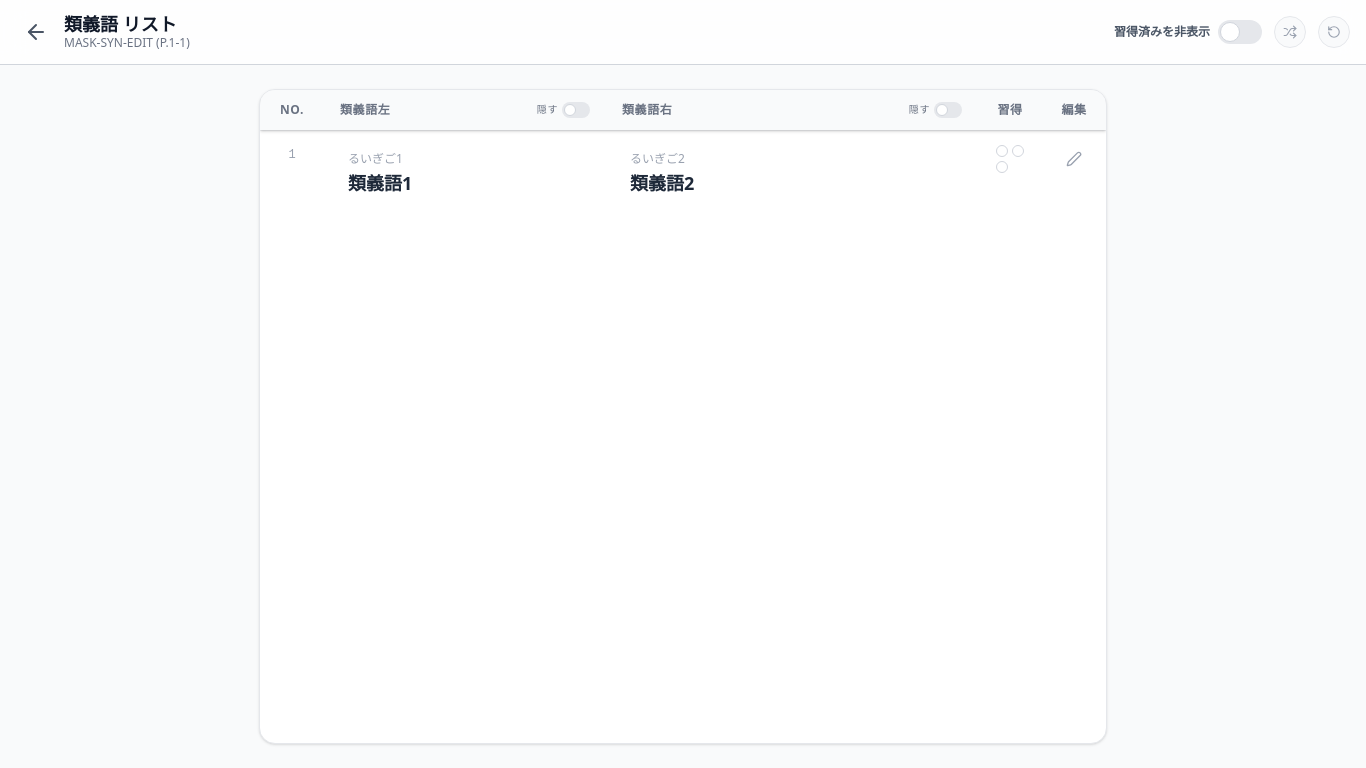
Test: WordList Masking Feature › 類義語の右パネル編集は右メンバーだけを更新する
The image size is (1366, 768).
Check: the text "類義語1" is shown, box [348,171,412,195]
Check: the text "類義語2" is shown, box [630,171,694,195]
Click the button with class "lucide-pen": (1074, 159) [1058,143,1090,175]
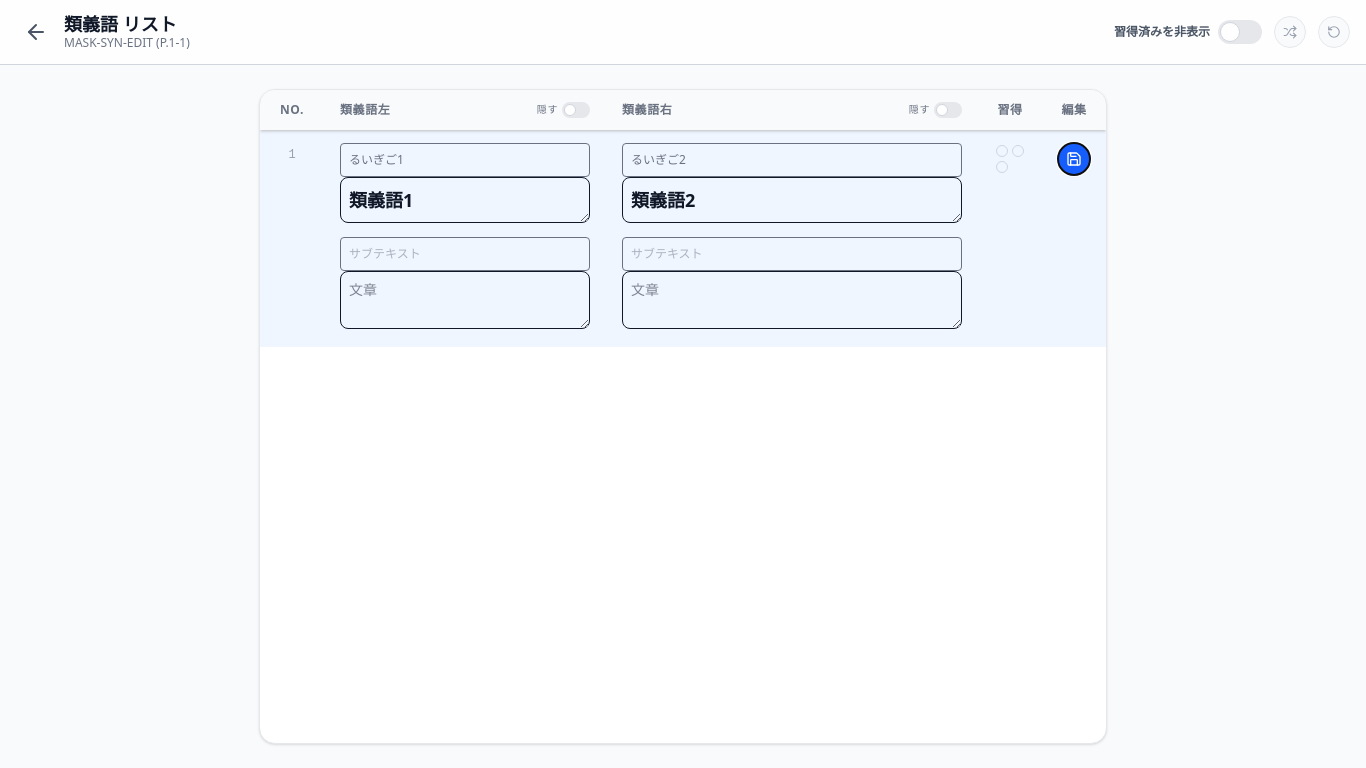
Replace the text in the 2nd text box showing "類義語2" with "右更新": (792, 200) [622,177,962,223]
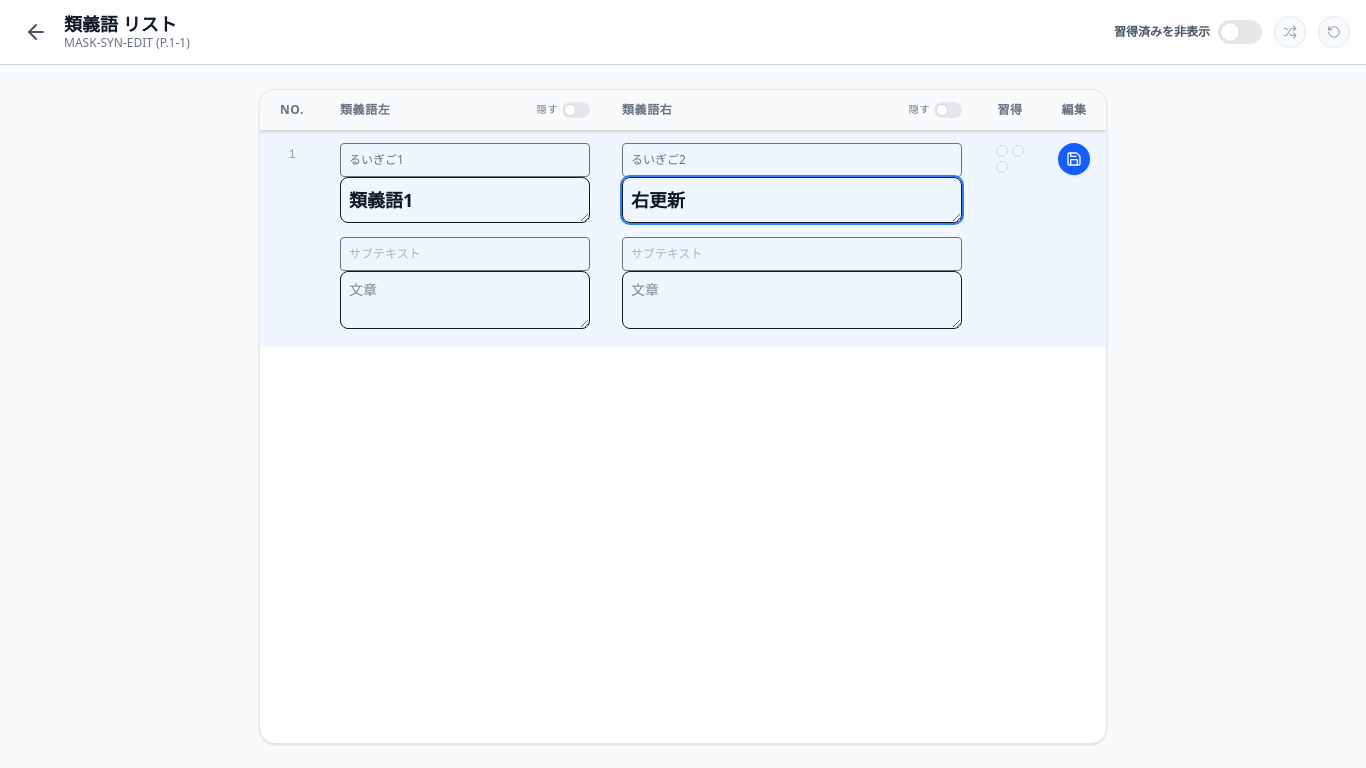
Click the button with class "lucide-pen": (1074, 159) [1058,143,1090,175]
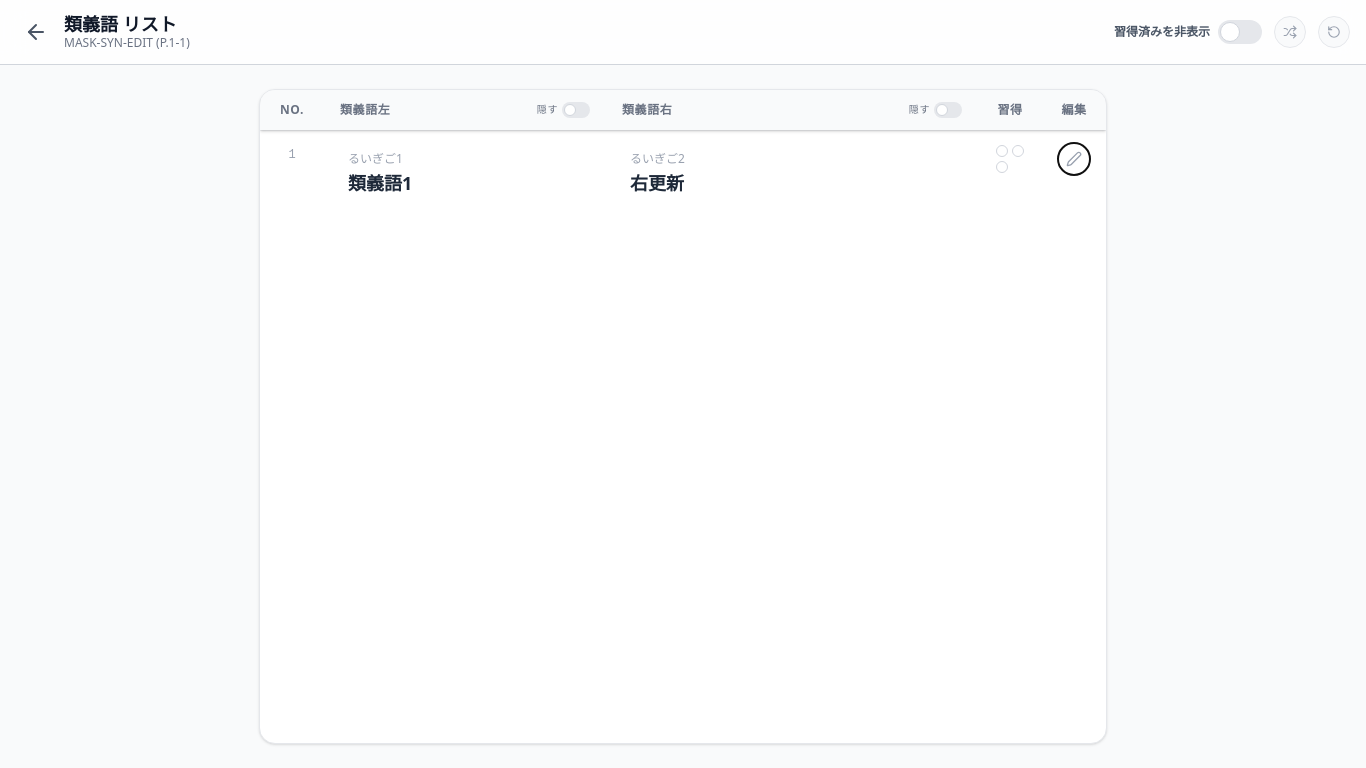
Check: the text "類義語2" is not shown
Check: the text "類義語1" is shown, box [348,171,412,195]
Check: the text "右更新" is shown, box [630,171,684,195]
